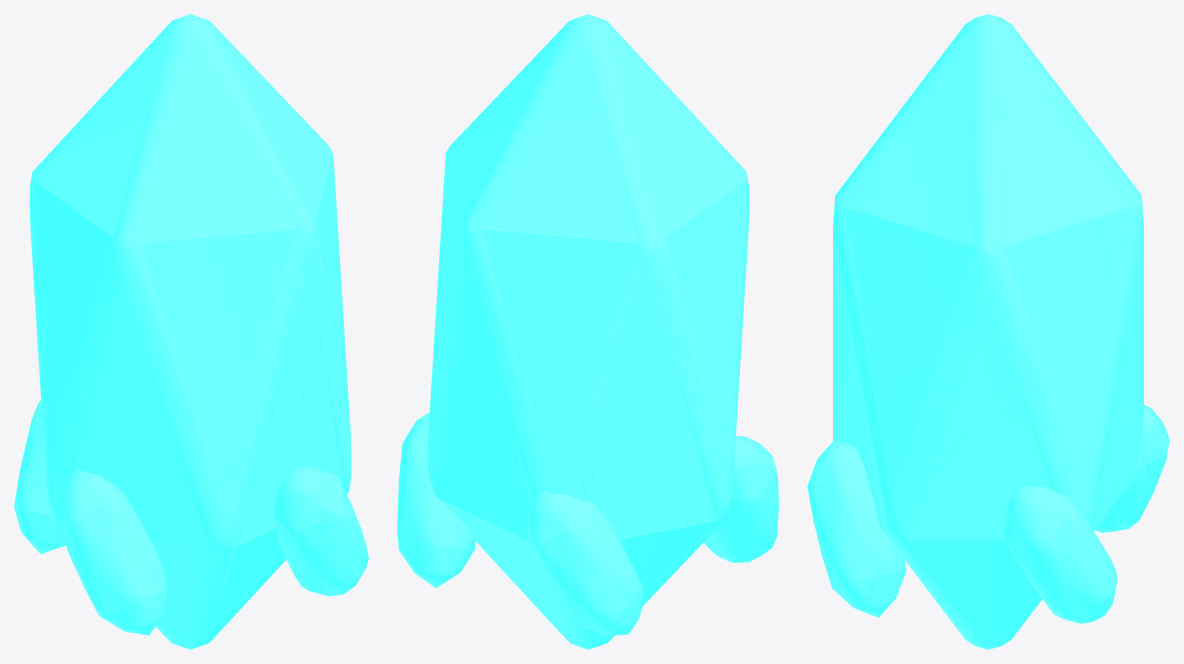
Rendered from crystal.glb.
3 views of the same model, side by side, from view 1: azimuth 30°, elevation 25°; view 2: azimuth 150°, elevation 25°; view 3: azimuth 270°, elevation 25° (orthographic).
Parts seen in each view (by area): view 1: Crystal; view 2: Crystal; view 3: Crystal.
Part boxes in pixels (x1,y1,x2,y2): Crystal: (14,14,368,649); Crystal: (397,14,778,649); Crystal: (807,14,1169,649).
Bounding box in the file's own units: 1.08 × 2.11 × 1.09.
